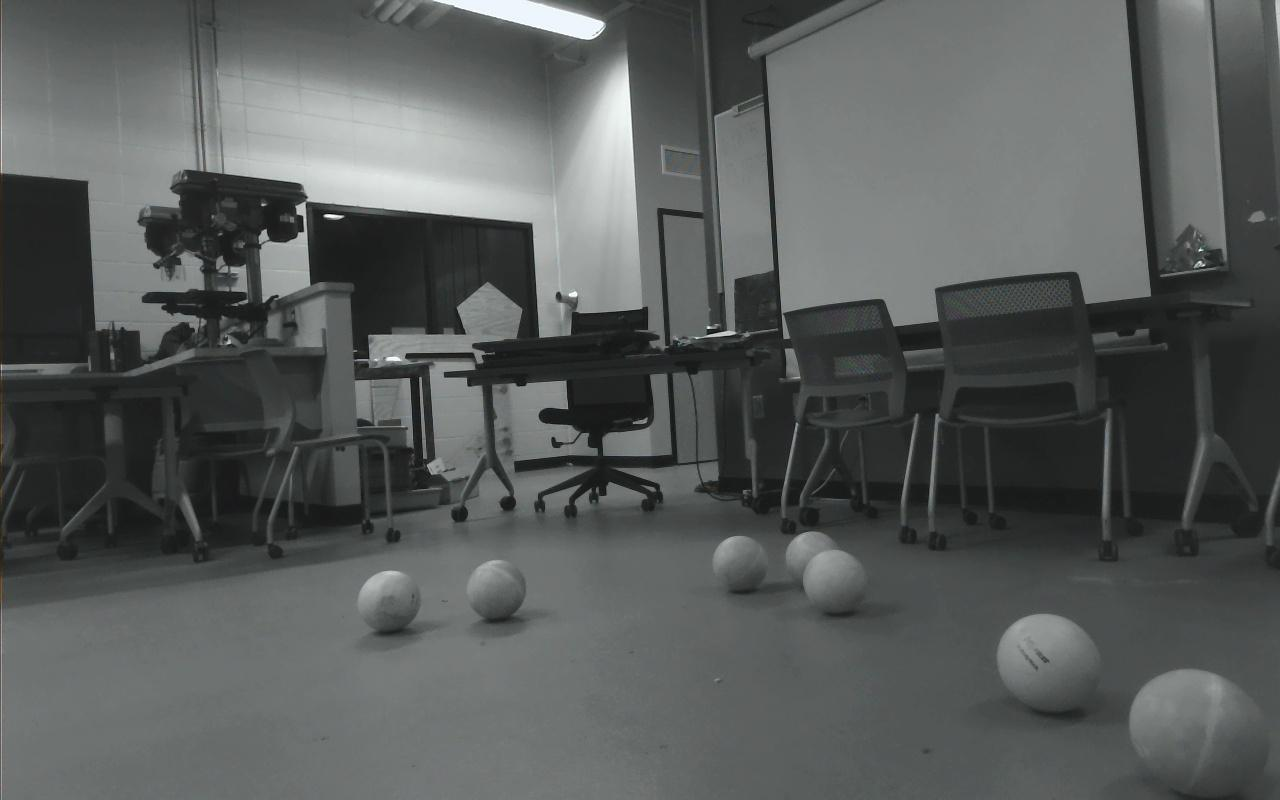Fuel: (1129, 669, 1268, 798), (996, 612, 1100, 714), (803, 549, 867, 615), (358, 570, 421, 632), (466, 560, 527, 620), (712, 535, 769, 592), (785, 531, 840, 588)
